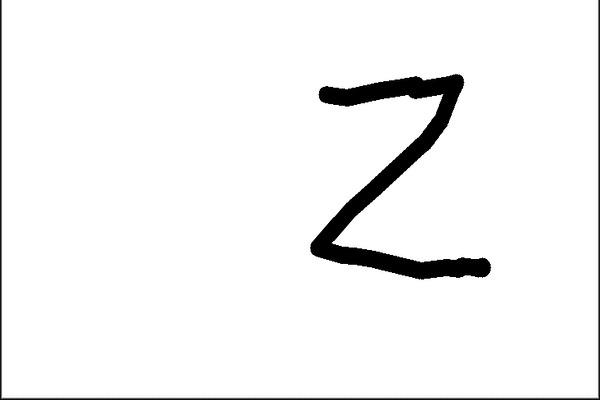Z: (299, 63, 507, 282)
